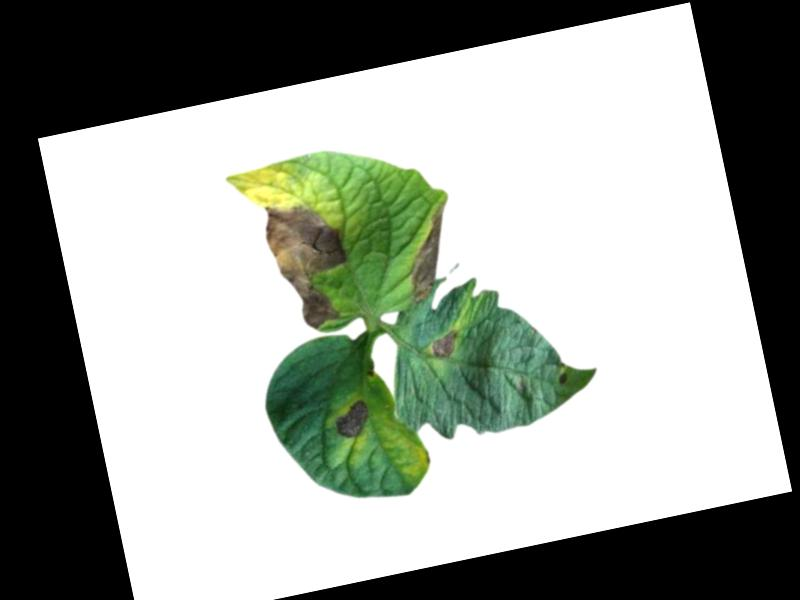Early_blight: (259, 192, 361, 337), (395, 203, 471, 304), (330, 396, 375, 442), (427, 328, 464, 361), (557, 370, 571, 386)
